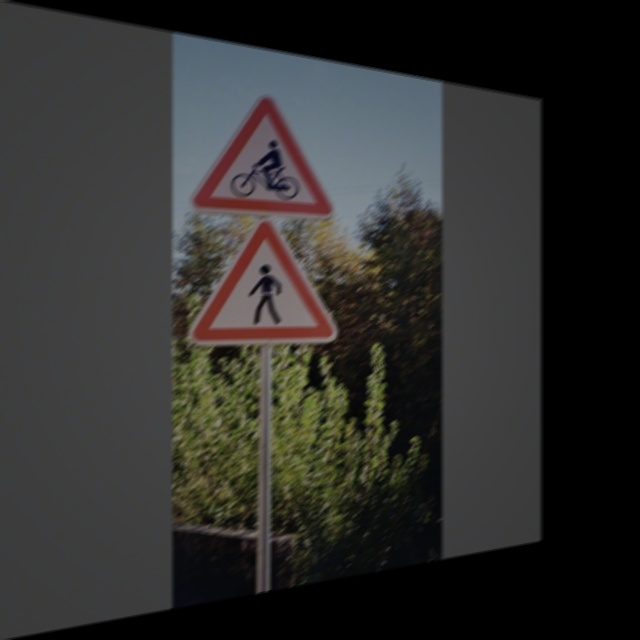Cycle_Crossing: (196, 82, 327, 220)
